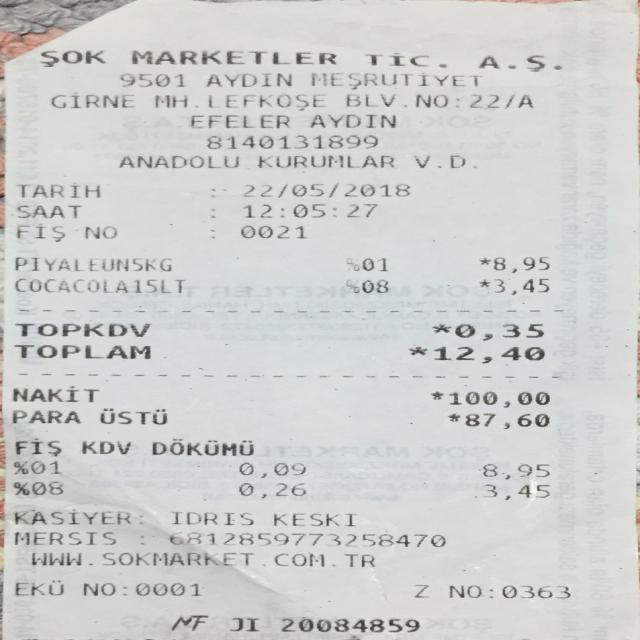text: (30, 549, 372, 568), (167, 529, 444, 548), (132, 47, 334, 70), (346, 90, 532, 110), (311, 70, 480, 91), (14, 276, 182, 294), (14, 254, 170, 273), (205, 133, 376, 149), (242, 182, 408, 198), (281, 614, 418, 633), (0, 508, 129, 527), (254, 153, 391, 170), (208, 90, 323, 110), (150, 438, 252, 460), (0, 528, 114, 547), (13, 322, 148, 338), (242, 202, 376, 218), (433, 344, 543, 363), (14, 343, 149, 358), (118, 154, 236, 170), (449, 390, 548, 408), (189, 112, 287, 130), (453, 322, 541, 341), (50, 90, 132, 110), (205, 71, 291, 90), (8, 384, 97, 402), (465, 411, 548, 430), (476, 52, 551, 73), (308, 112, 395, 130), (273, 509, 354, 528), (34, 46, 103, 68), (171, 509, 251, 527), (10, 406, 80, 425), (361, 49, 431, 68), (473, 483, 550, 500), (16, 182, 97, 198), (118, 70, 184, 89), (98, 406, 164, 425), (229, 462, 306, 478), (134, 580, 199, 598), (236, 481, 304, 498), (475, 462, 550, 477), (240, 223, 306, 240), (12, 222, 66, 242), (11, 203, 78, 219), (81, 437, 129, 459), (9, 436, 60, 456), (492, 255, 548, 273), (492, 278, 550, 294), (502, 584, 568, 598), (409, 154, 468, 168), (15, 579, 61, 596), (343, 255, 387, 272), (341, 280, 392, 294), (154, 90, 188, 110), (83, 222, 115, 242), (171, 614, 205, 632), (31, 480, 63, 496), (230, 614, 258, 632), (28, 459, 59, 475), (81, 581, 114, 596), (448, 583, 479, 598), (0, 481, 24, 497), (430, 322, 450, 341), (408, 344, 425, 363), (190, 90, 202, 110), (12, 459, 27, 475), (430, 390, 441, 408), (448, 411, 459, 429), (479, 255, 489, 273), (414, 584, 426, 598), (478, 278, 490, 290), (204, 208, 216, 218), (208, 188, 215, 198), (140, 529, 144, 545), (139, 508, 142, 526), (122, 580, 125, 596), (487, 584, 490, 598), (210, 223, 212, 239)
